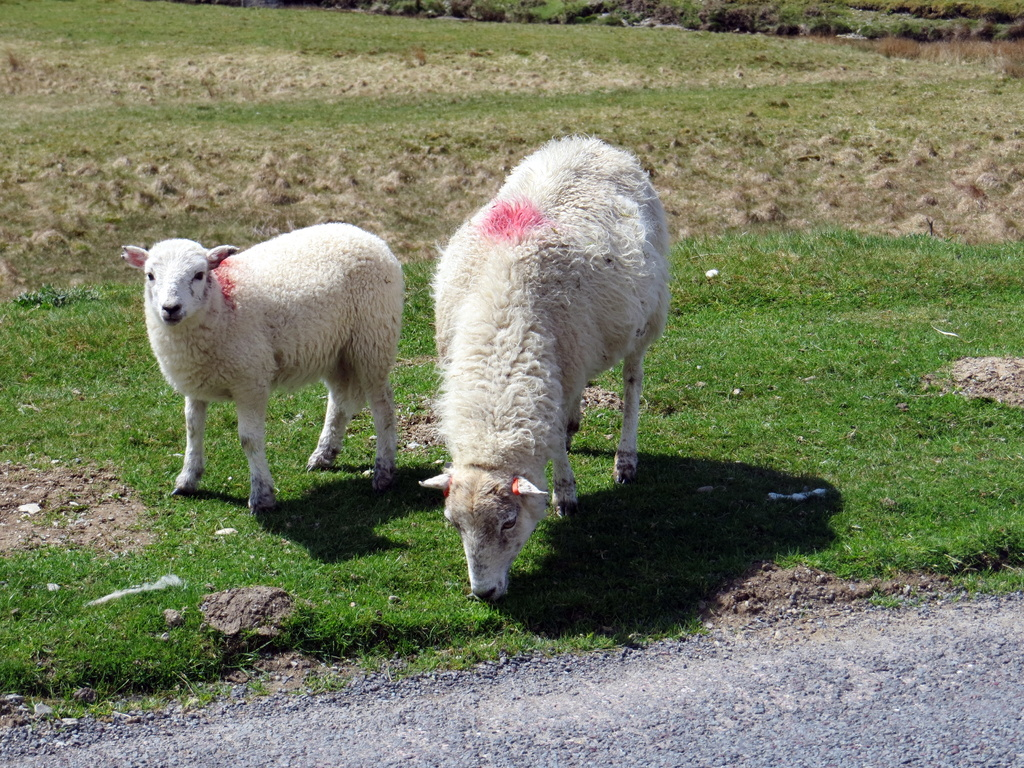sheep: (420, 132, 667, 600), (122, 223, 401, 508)
